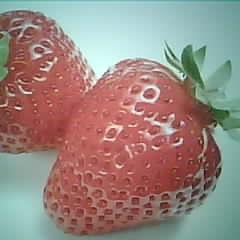straw-ripe: (44, 58, 223, 238), (0, 10, 98, 155)
